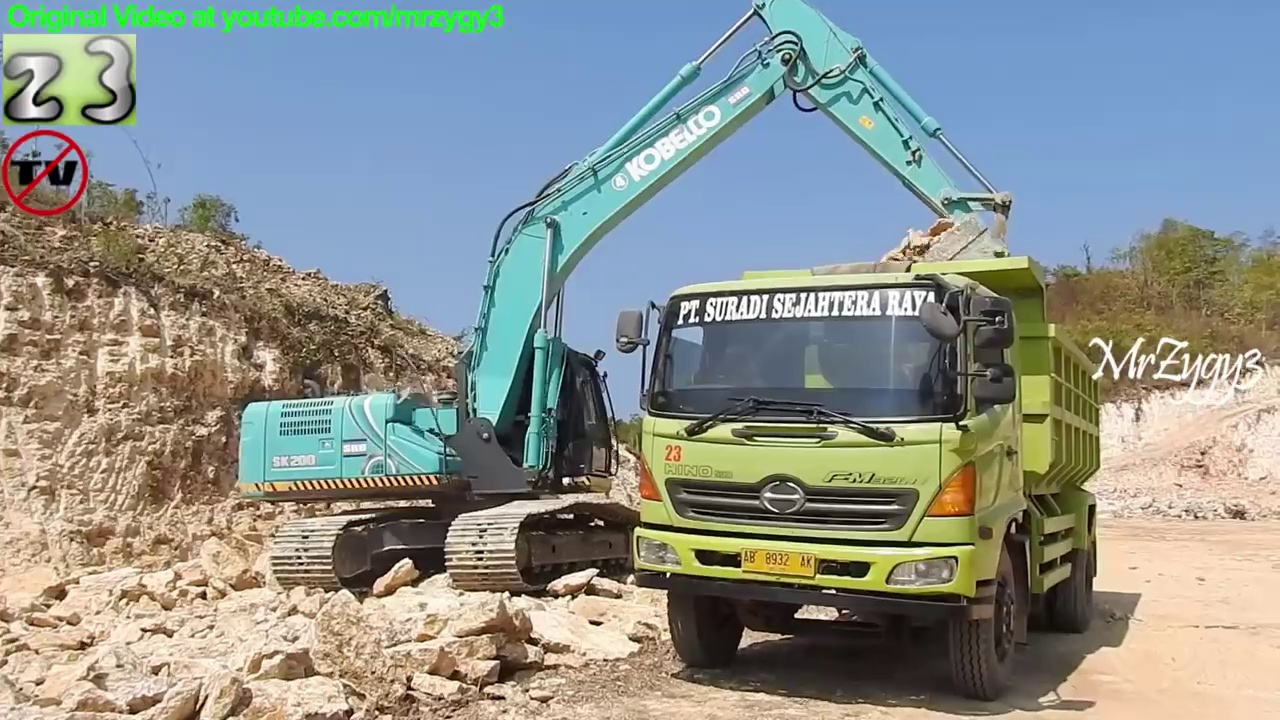excavator: (227, 1, 1020, 607)
truck: (609, 247, 1112, 707)
